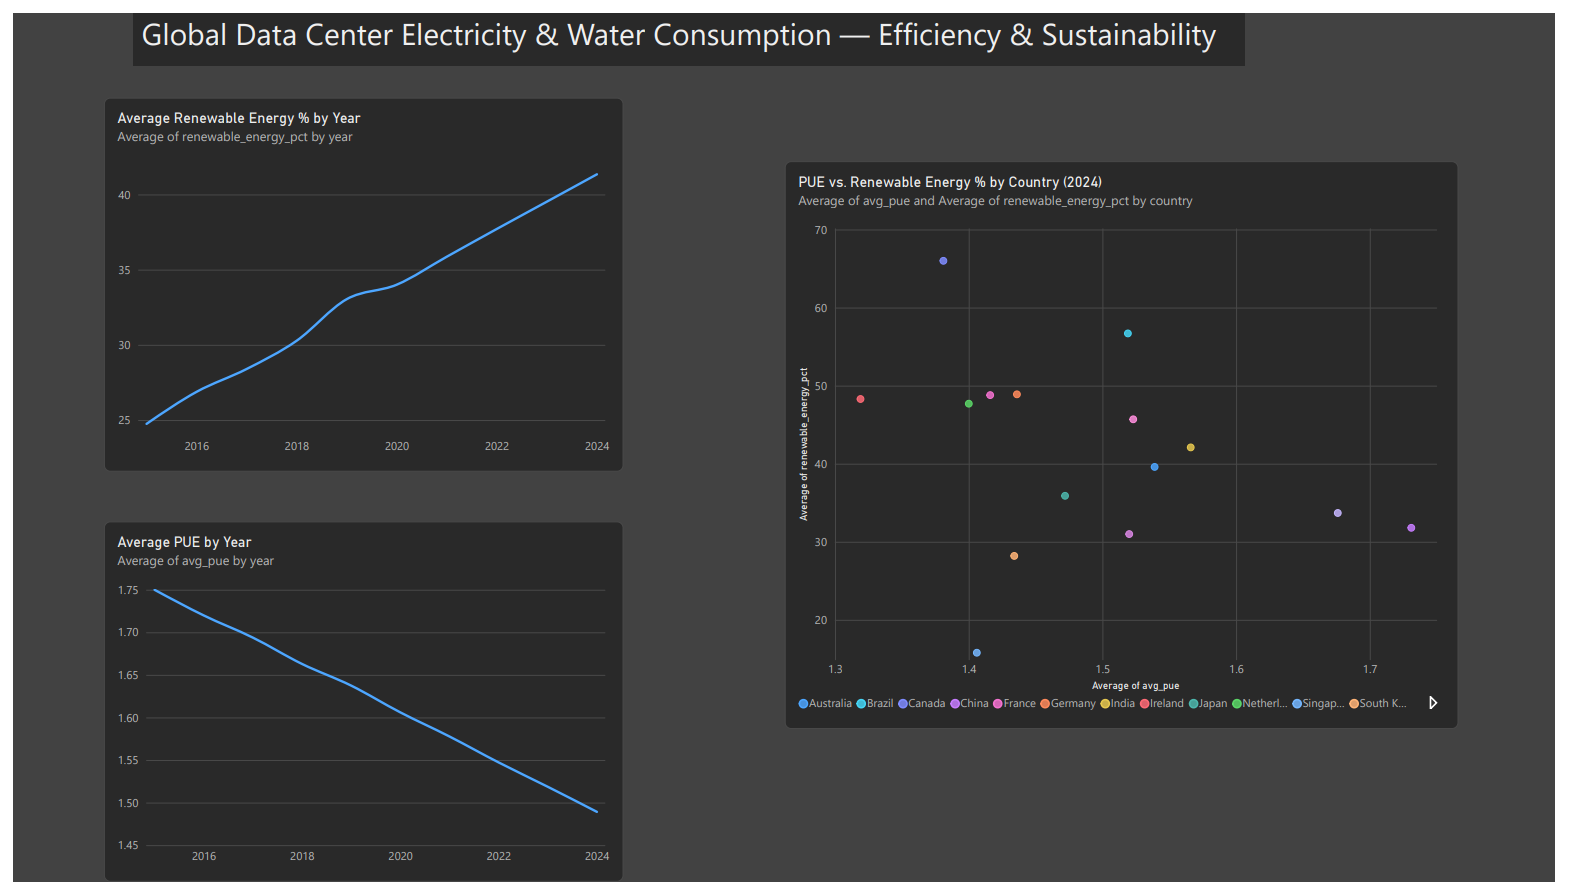

This screenshot's page, from the dashboard's own definition file:
{"tool":"powerbi","page":{"name":"Efficiency & Sustainability","canvas":[1920,1080],"ordinal":3},"visuals":[{"type":"lineChart","title":"Average PUE by Year","fields":{"Category":["datacenter_clean.year"],"Y":["Avg(datacenter_clean.avg_pue)"]},"box":[113.4,632.1,646.3,447.9],"z":0},{"type":"lineChart","title":"Average Renewable Energy % by Year","fields":{"Category":["datacenter_clean.year"],"Y":["Avg(datacenter_clean.renewable_energy_pct)"]},"box":[113.4,104.9,646.3,464.9],"z":1000},{"type":"scatterChart","title":"PUE vs. Renewable Energy % by Country (2024)","fields":{"Series":["datacenter_clean.country"],"X":["Avg(datacenter_clean.avg_pue)"],"Y":["Avg(datacenter_clean.renewable_energy_pct)"]},"box":[961,184.3,839.1,705.8],"z":2000},{"type":"textbox","box":[150.2,0,1383.3,65.2],"z":2001}]}

Visuals, with their boxes in screenshot pixels (x1, y1, x2, y2), scaled from the page's 1920x1080 canvas onto the 1570x894 screenshot:
"Average PUE by Year" lineChart: 93 523 621 893
"Average Renewable Energy % by Year" lineChart: 93 87 621 472
"PUE vs. Renewable Energy % by Country (2024)" scatterChart: 786 153 1472 737
textbox: 123 0 1254 54
